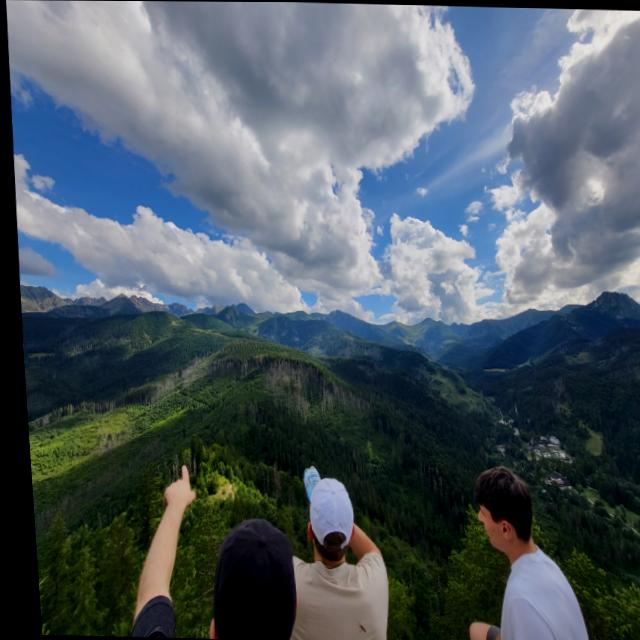Giewont: (558, 236, 640, 360)
Kasprowy Wierch: (300, 266, 376, 359)
Kopa Kondracka: (521, 251, 619, 360)
Kozi Wierch: (139, 263, 215, 343)
Skrajny i Posredni Granat: (85, 245, 178, 353)
Swinica: (194, 258, 295, 351)
Uhrocie Kasprowe: (261, 275, 335, 352)
Wielka Koszysta i Waksmundzki Wierch: (16, 241, 86, 334)
